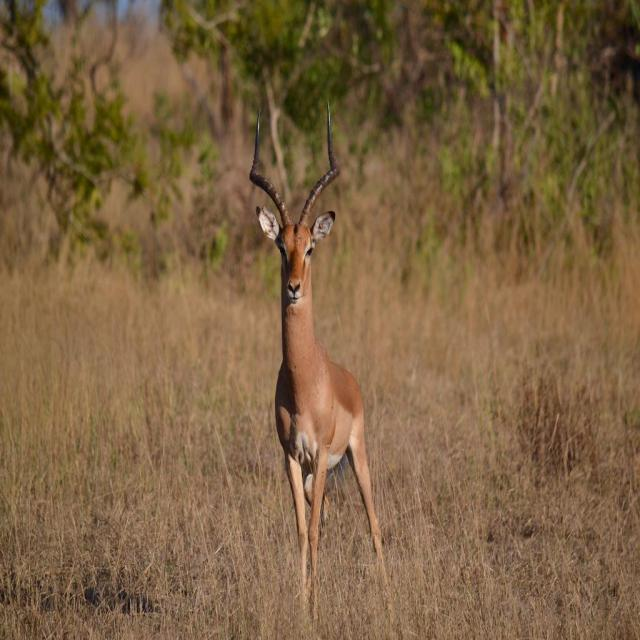Deer: (246, 102, 387, 599)
